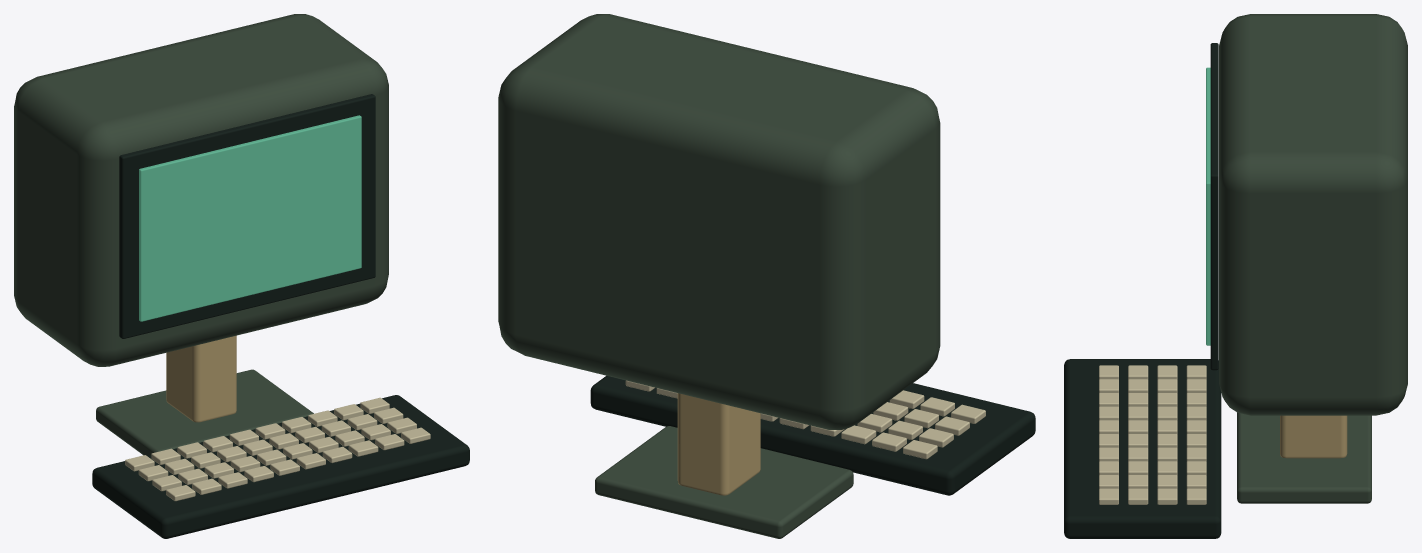
File: terminal.glb
3 views of the same model, side by side, from view 1: azimuth 30°, elevation 25°; view 2: azimuth 150°, elevation 25°; view 3: azimuth 270°, elevation 25° (orthographic). The views are drawn at different scales.
Visible parts, largest first — view 1: terminal, terminal_screen; view 2: terminal; view 3: terminal, terminal_screen.
Boxes of the visible parts, x1,y1,x2,y2 form: terminal: (14,14,469,538); terminal_screen: (139,115,361,321); terminal: (498,14,1035,538); terminal: (1064,14,1407,538); terminal_screen: (1206,67,1210,345).
Bounding box in the file's own units: 0.85 × 0.93 × 0.765.
